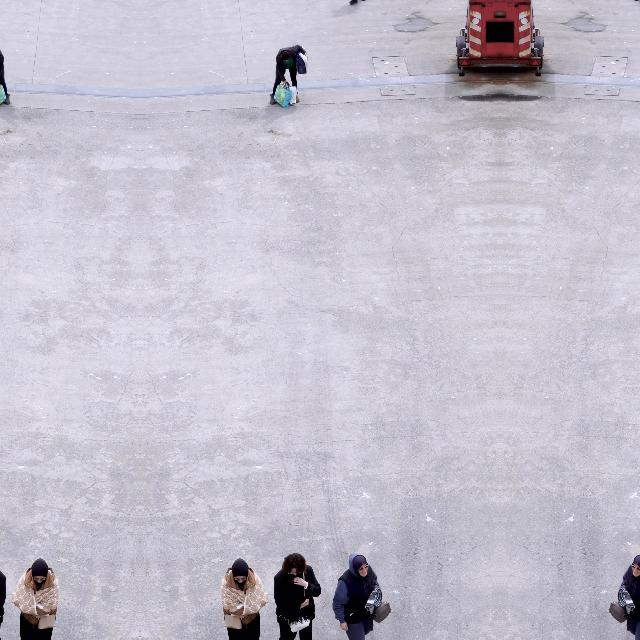person: (332, 552, 382, 640), (274, 552, 322, 640), (220, 558, 270, 640), (10, 558, 60, 640), (269, 44, 307, 106), (618, 552, 640, 639), (0, 44, 11, 105), (0, 552, 6, 639)
